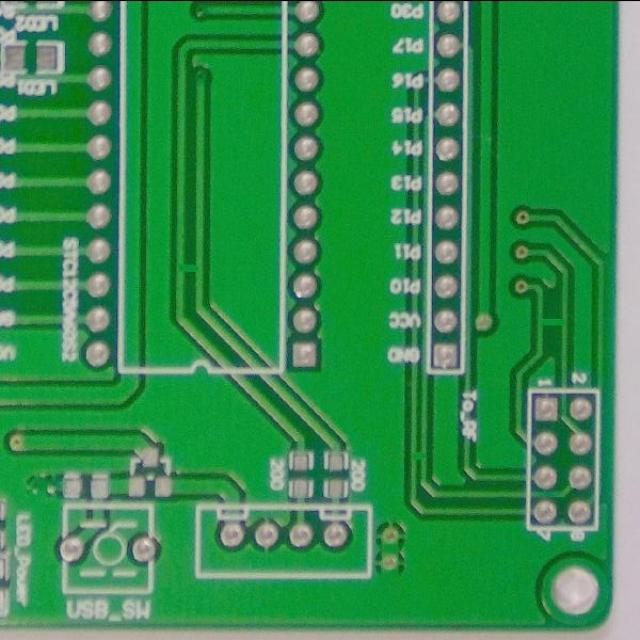short: (530, 304, 571, 342), (171, 250, 208, 288), (406, 440, 431, 472)
